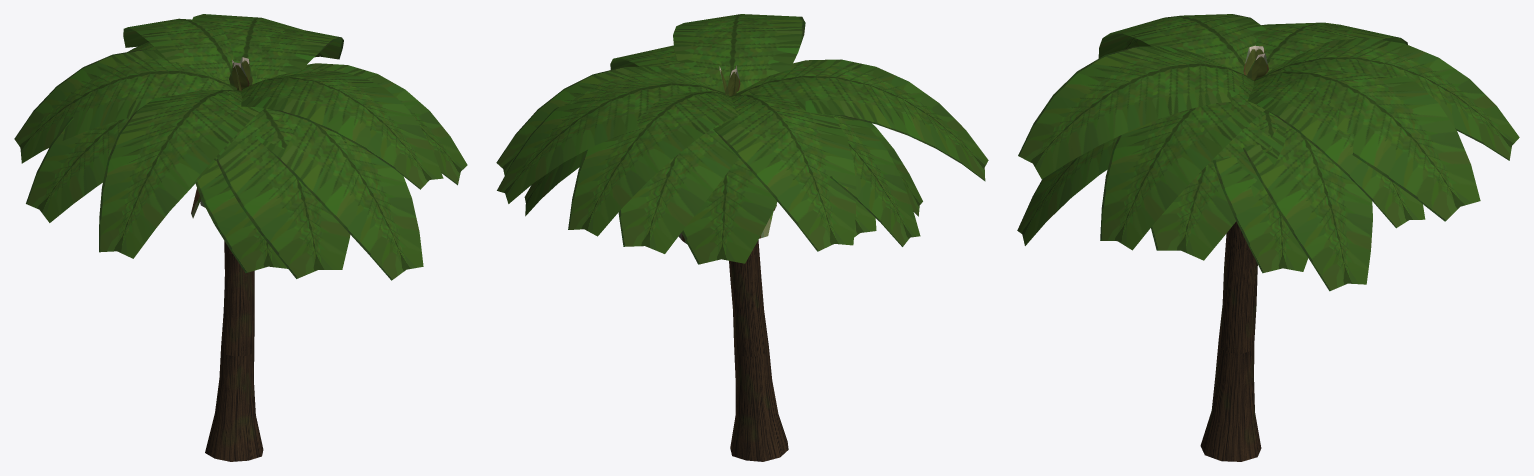
The model's file is ENV_PC_TreeFern_C.fbx.
3 renders of one model, left to right at view 1: azimuth 30°, elevation 25°; view 2: azimuth 150°, elevation 25°; view 3: azimuth 270°, elevation 25°, orthographic. The views are drawn at different scales.
Visible parts, largest first — view 1: ENV_PC_TreeFern_C_LOD0; view 2: ENV_PC_TreeFern_C_LOD0; view 3: ENV_PC_TreeFern_C_LOD0.
Boxes of the visible parts, x1=… form: ENV_PC_TreeFern_C_LOD0: x1=14, y1=14, x2=467, y2=461; ENV_PC_TreeFern_C_LOD0: x1=496, y1=14, x2=988, y2=461; ENV_PC_TreeFern_C_LOD0: x1=1017, y1=14, x2=1519, y2=461.
Size of what is drawn, in the model's own units: 5.47 by 5.43 by 6.04.
